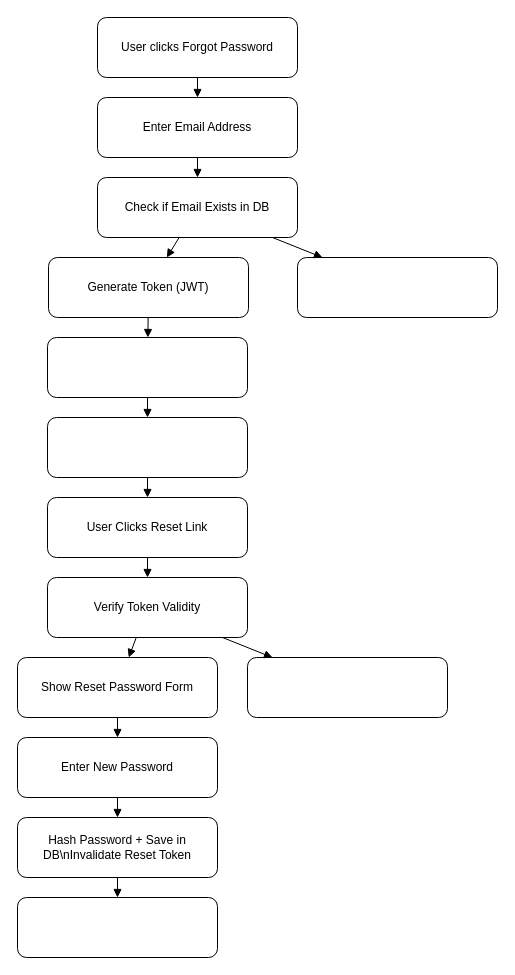
The diagram is 515 pixels wide and 975 high, and some of its shapes have lost their labels. The centre of each missing label's shape, as x and y in pixels:
"Save Token in DB with Expiry Time" belongs at point (147, 367).
"Send Email with Reset Link" belongs at point (147, 447).
"Show Error: Email Not Found" belongs at point (397, 287).
"Show Error: Token Expired or Invalid" belongs at point (347, 687).
"Show Success Message: Password Reset Successful" belongs at point (117, 927).
